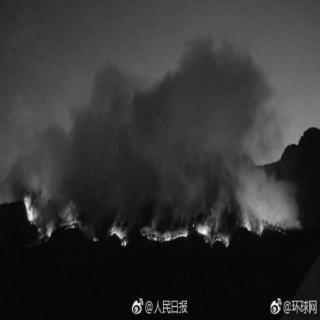Fire: (257, 223, 263, 237)
